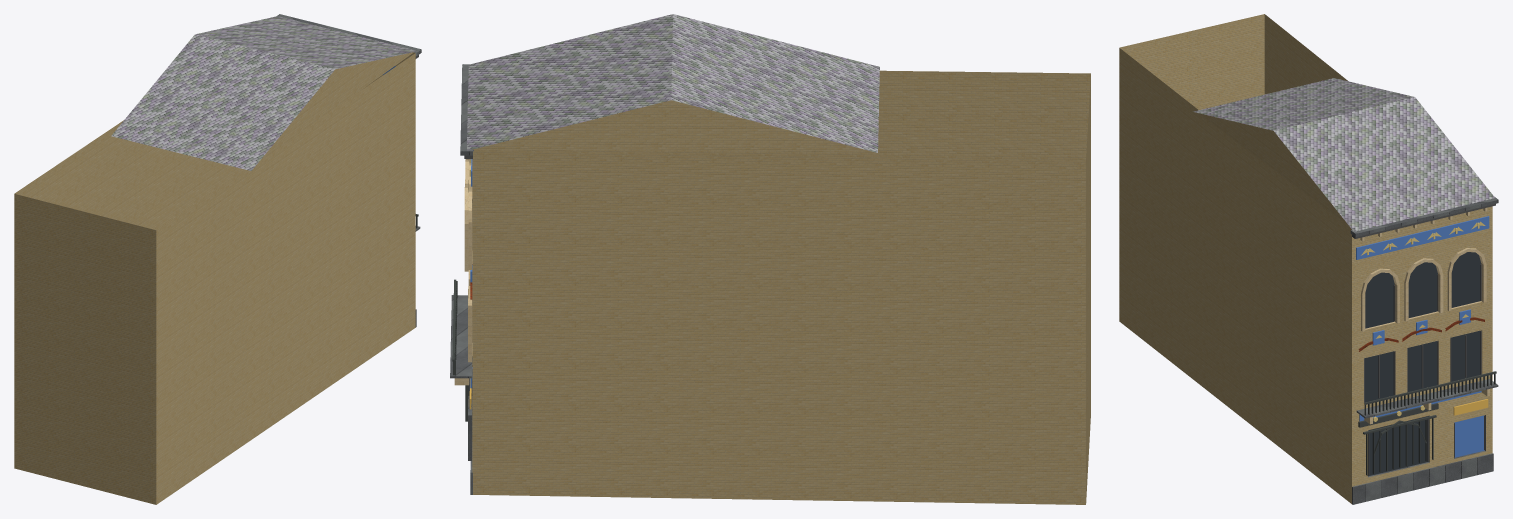
3 views of the same model, side by side, from view 1: azimuth 30°, elevation 25°; view 2: azimuth 150°, elevation 25°; view 3: azimuth 270°, elevation 25° (orthographic). The views are drawn at different scales.
Parts seen in each view (by area): view 1: bldg_501637652_landmark; view 2: bldg_501637652_landmark; view 3: bldg_501637652_landmark.
Part boxes in pixels (x1,y1,x2,y2): bldg_501637652_landmark: (14,14,421,504); bldg_501637652_landmark: (450,14,1090,504); bldg_501637652_landmark: (1119,14,1498,504).
Size of the model in its own units: 22.96 by 15.2 by 16.57.
11 materials, 5 textured.
